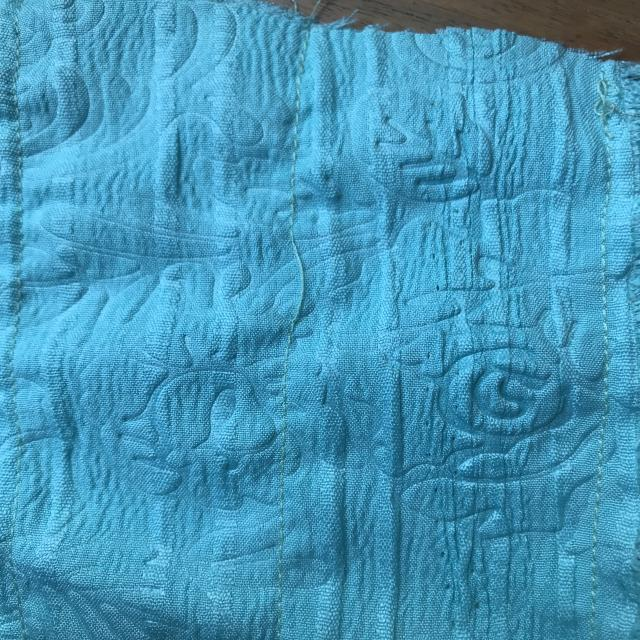good: (286, 110, 303, 186)
skip: (273, 212, 315, 341)
